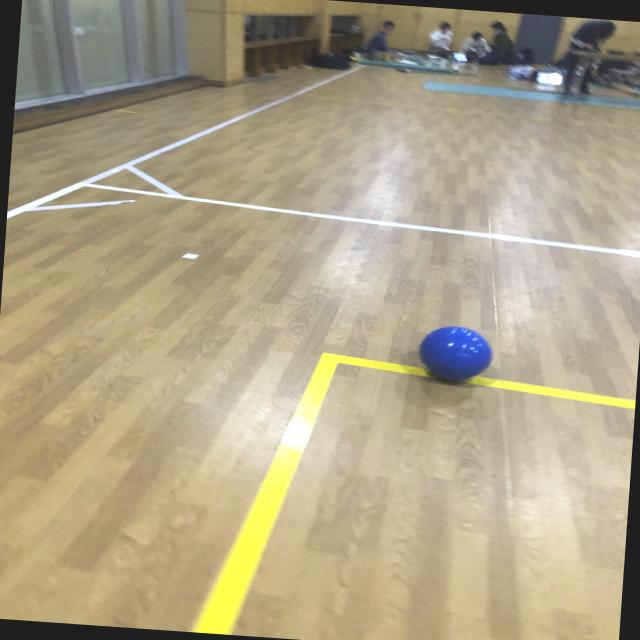blue_ball: (419, 326, 497, 384)
